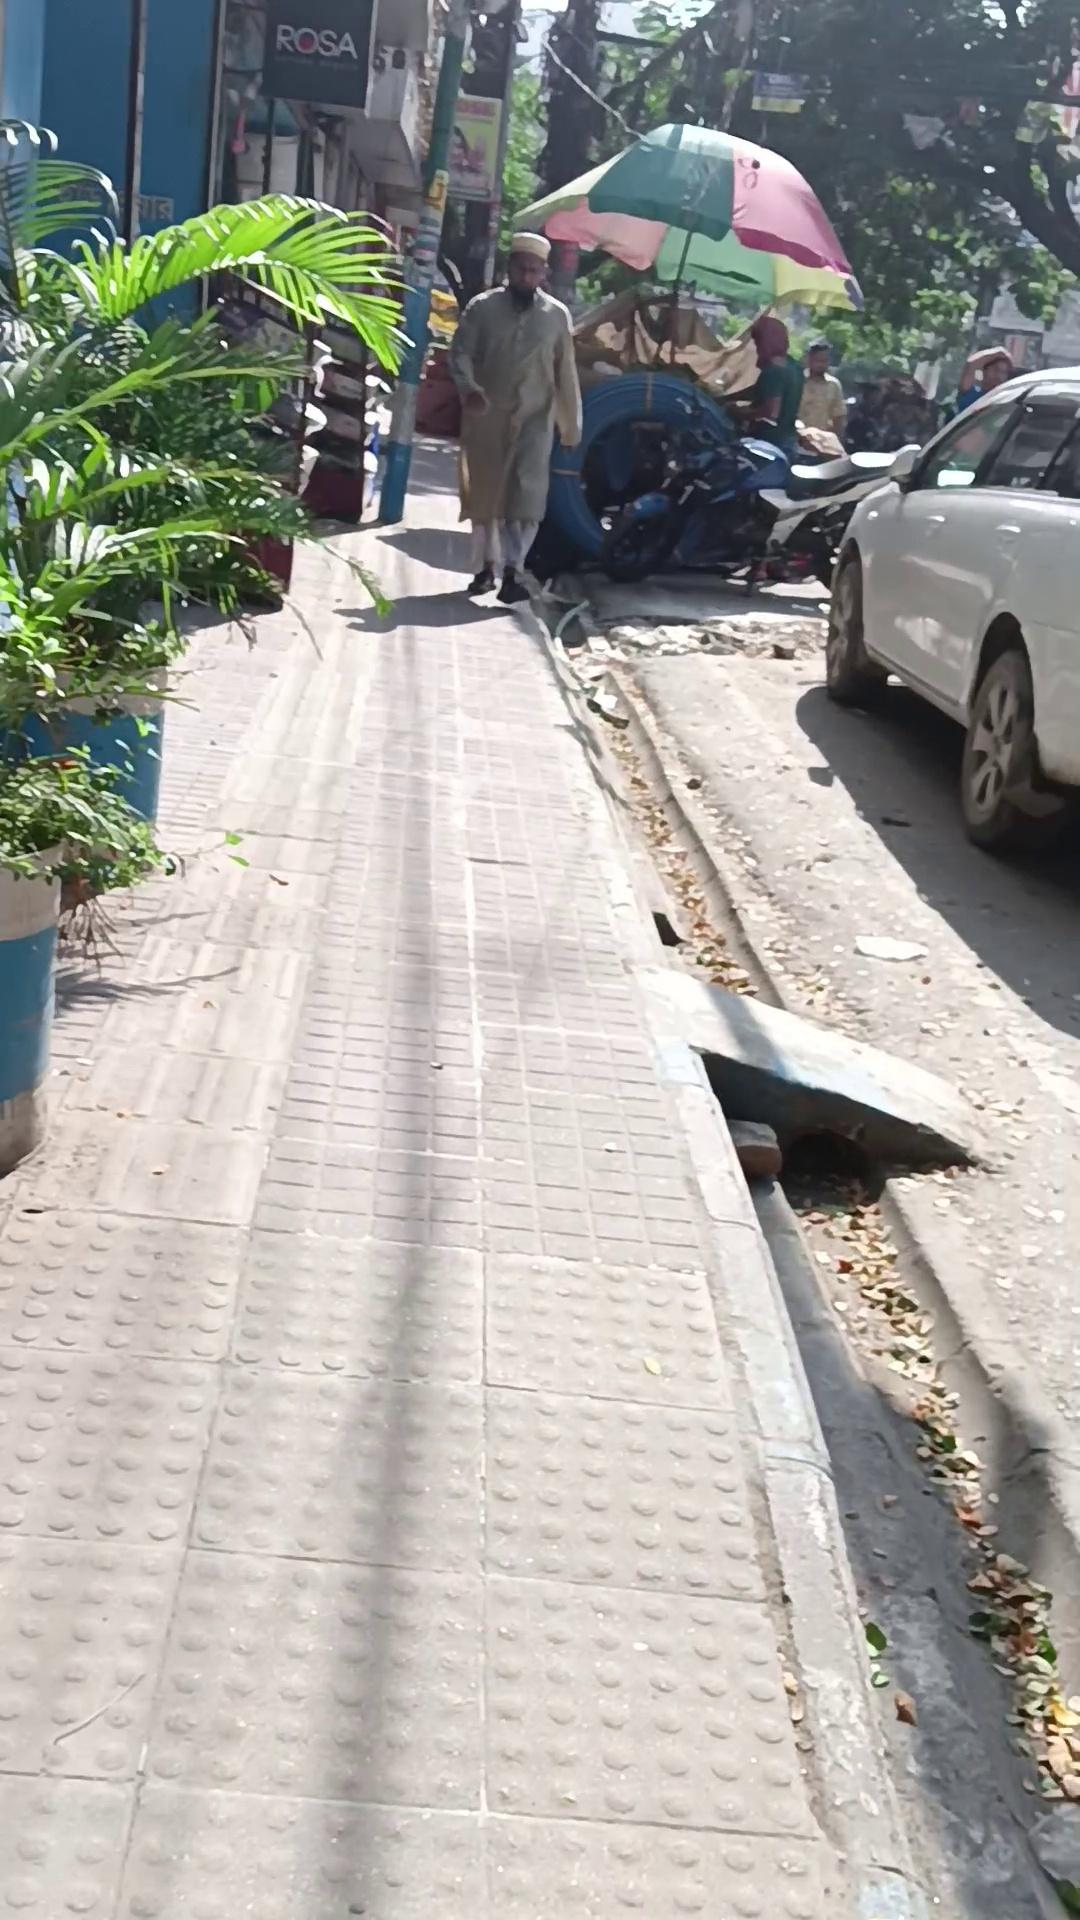Bollard: (823, 363, 1079, 848)
Broken-road: (526, 583, 1080, 1915)
Construction-barrier: (524, 375, 905, 607)
Curb: (446, 229, 584, 603)
Dog: (375, 13, 467, 524)
Fallen-tree: (0, 116, 415, 1178)
Garbage: (3, 502, 923, 1916)
